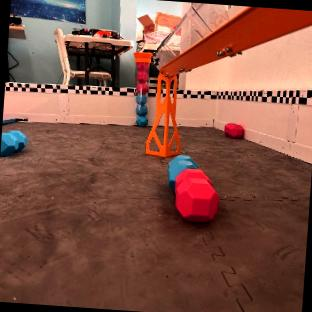Goal: (146, 3, 312, 156)
V5_BLUE: (168, 155, 197, 188), (0, 130, 25, 155), (135, 93, 147, 125)
V5_RED: (174, 166, 218, 221), (134, 51, 151, 125), (224, 122, 243, 138)
